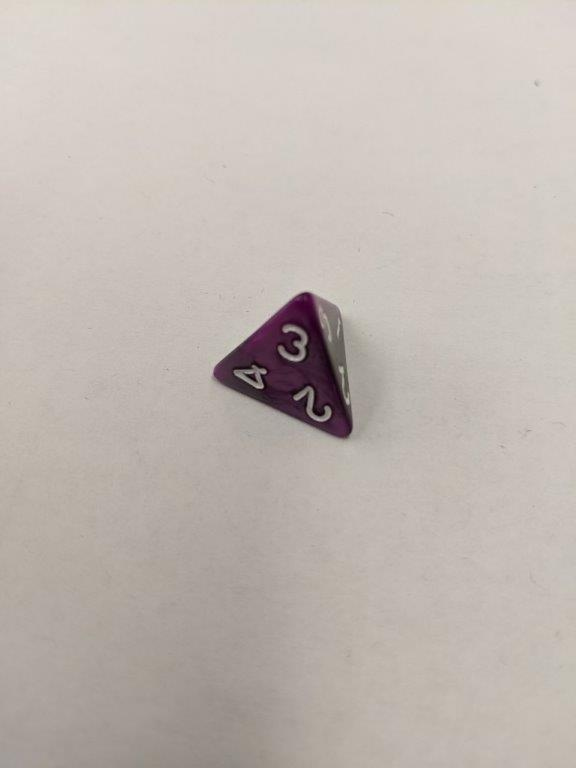d4-3: (210, 285, 357, 448)
